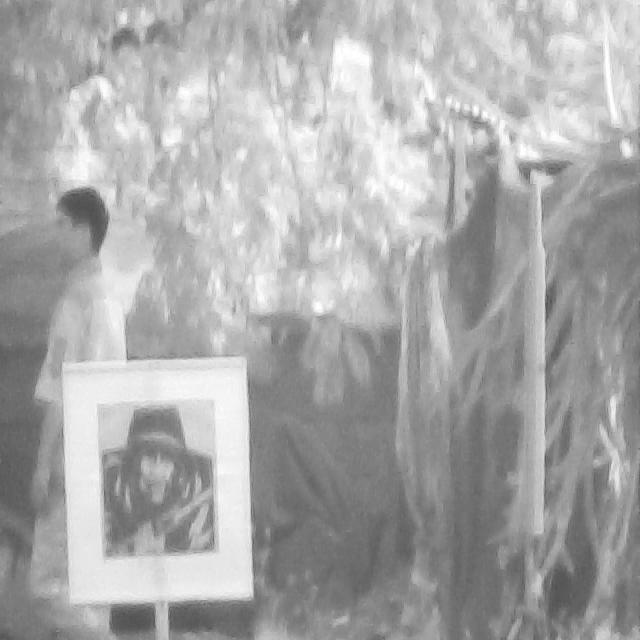bia: (97, 396, 221, 557)
